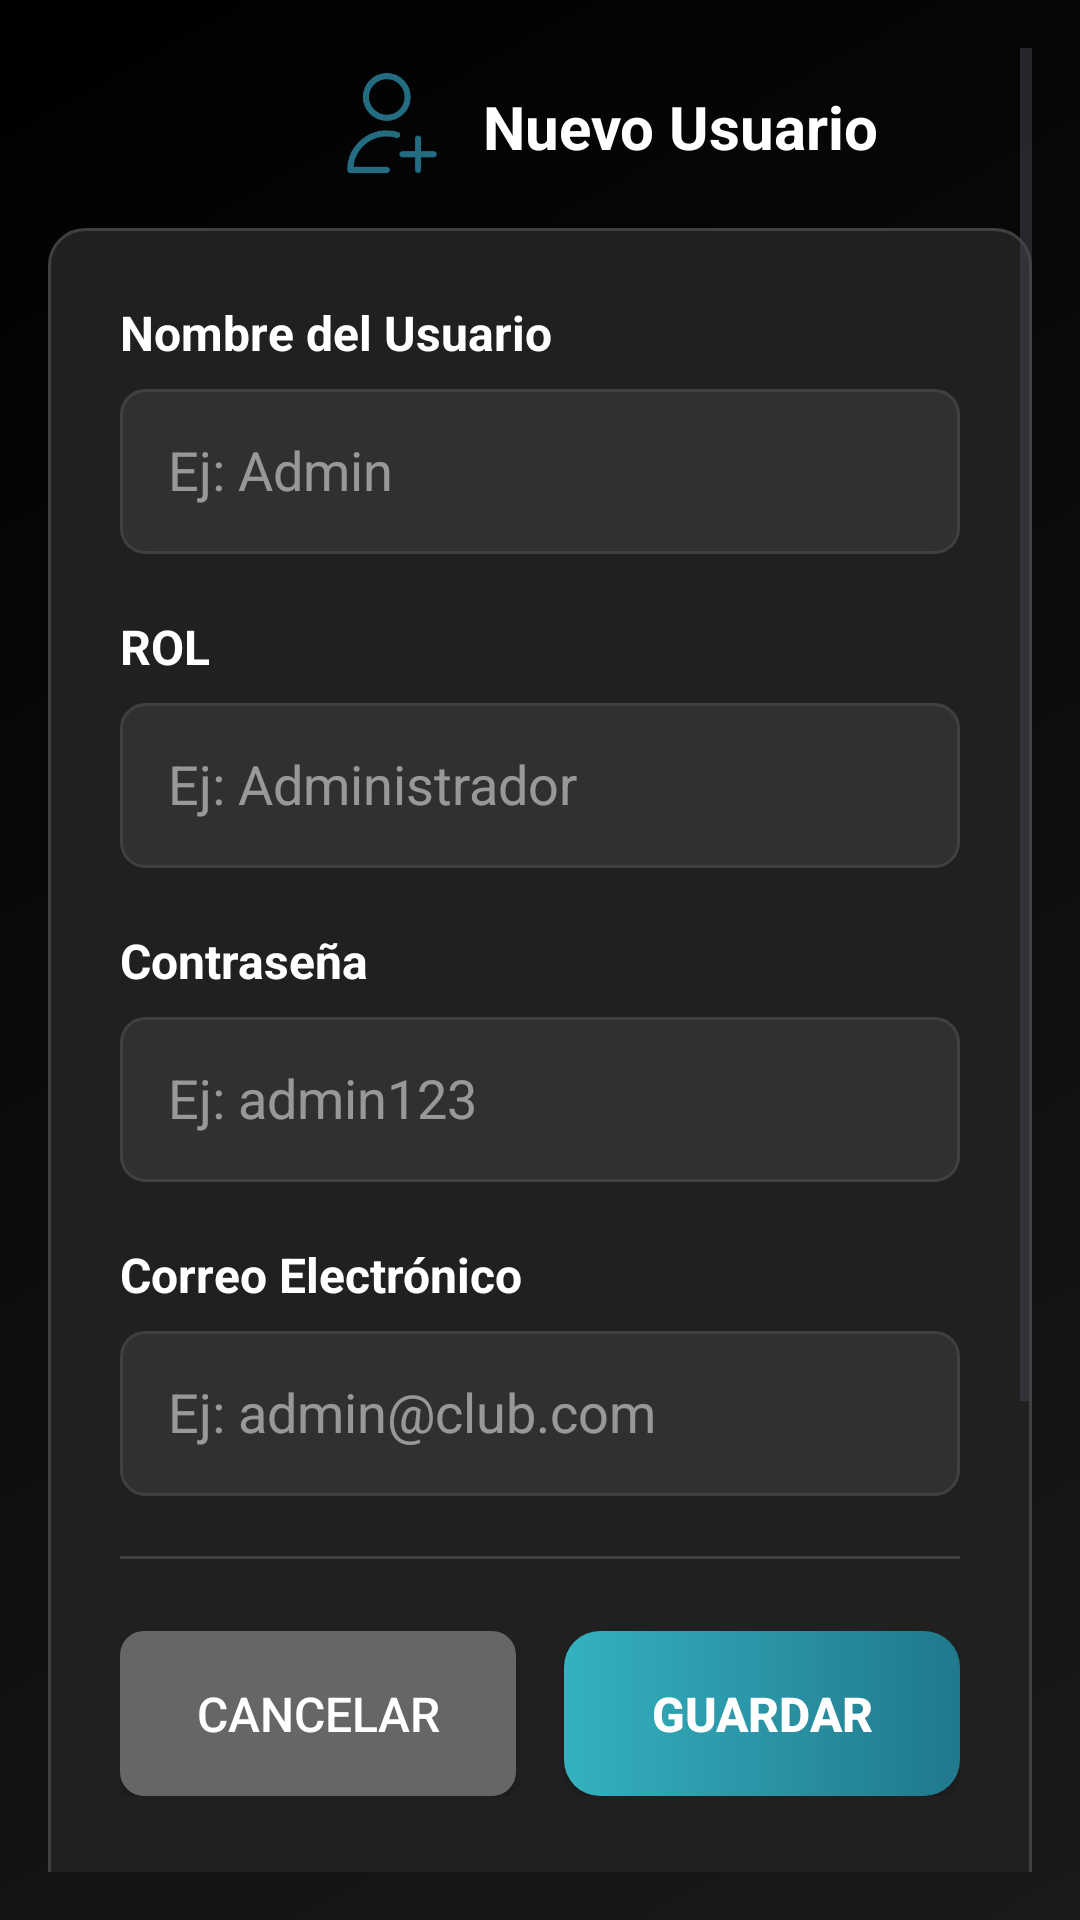

Screen size 1080px×1920px. Icon name, then its box in pixels as (x1, y1, x2, y2):
user: (347, 73, 437, 173)
